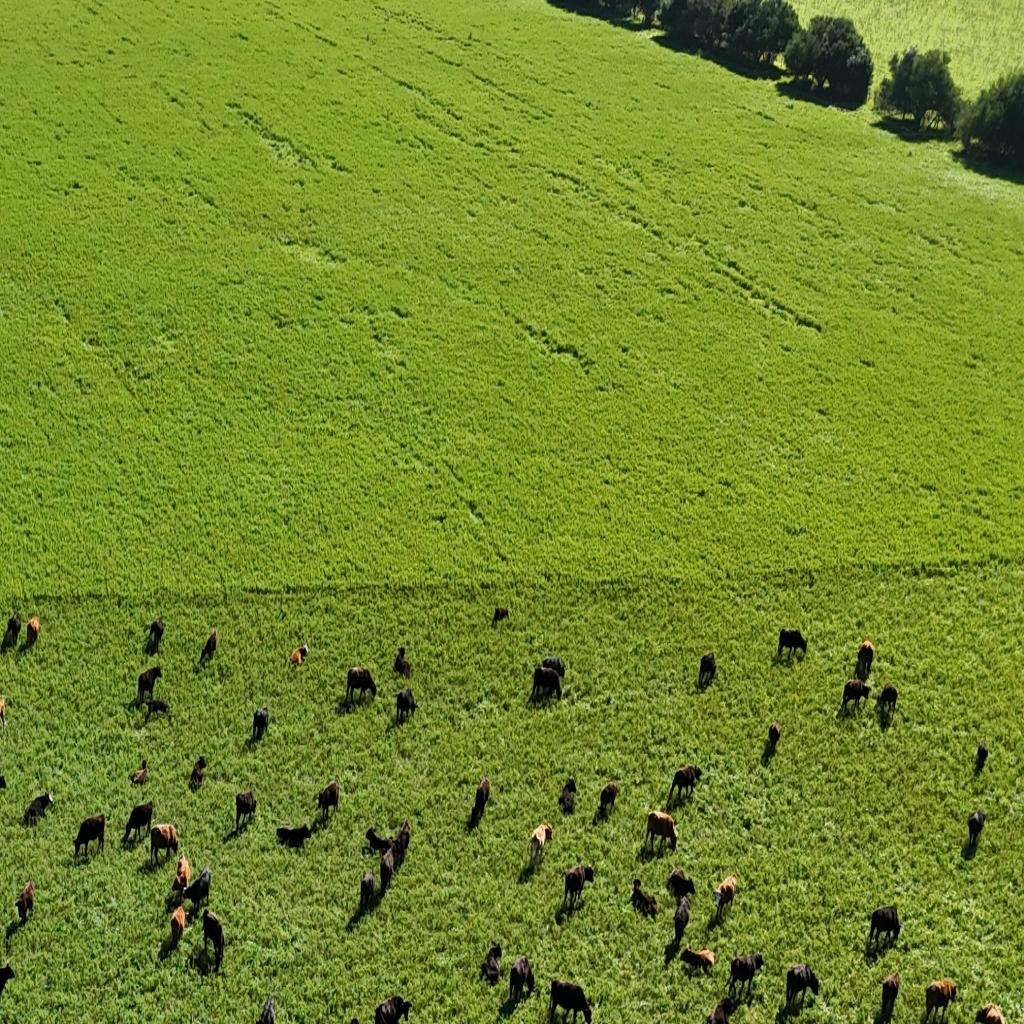cow: (690, 952, 764, 1024), (548, 977, 593, 1024), (785, 962, 820, 1015), (868, 902, 903, 952), (561, 860, 593, 911), (924, 979, 958, 1023), (74, 812, 106, 857), (202, 908, 224, 973), (182, 865, 211, 914), (646, 808, 677, 853), (509, 954, 535, 1007), (668, 764, 702, 804), (124, 799, 154, 844), (530, 665, 562, 705), (346, 665, 377, 705), (150, 823, 178, 867), (681, 942, 715, 978), (375, 994, 413, 1024), (24, 790, 54, 827), (878, 970, 900, 1020), (317, 777, 341, 822), (842, 677, 870, 715), (777, 627, 807, 662), (667, 867, 696, 903), (275, 822, 311, 851), (471, 776, 491, 828), (481, 942, 503, 988), (714, 875, 737, 919), (168, 904, 188, 954), (632, 882, 658, 920), (235, 788, 257, 832), (529, 823, 553, 863), (137, 666, 162, 704), (15, 879, 35, 925), (366, 826, 394, 858), (673, 893, 691, 942), (392, 818, 411, 864), (395, 687, 417, 725), (877, 683, 898, 721), (967, 808, 986, 850), (173, 854, 191, 898), (599, 781, 619, 819), (856, 639, 875, 678), (380, 847, 394, 899), (541, 655, 565, 685), (974, 1002, 1006, 1024), (698, 651, 717, 688), (558, 778, 577, 814), (394, 647, 414, 681), (360, 868, 375, 913), (0, 963, 15, 1007), (200, 628, 218, 664), (145, 698, 171, 722), (252, 707, 270, 741), (4, 613, 21, 649), (190, 754, 208, 788), (257, 994, 276, 1024), (148, 617, 164, 652), (131, 760, 149, 788), (27, 615, 41, 647), (290, 642, 308, 666), (204, 910, 222, 934), (768, 721, 781, 754), (975, 743, 989, 771), (630, 878, 643, 908), (921, 1002, 937, 1024), (493, 605, 509, 625), (317, 788, 327, 820), (488, 940, 502, 962), (130, 692, 144, 711), (0, 696, 7, 732), (168, 822, 178, 847), (583, 865, 595, 883), (692, 766, 702, 780), (209, 627, 217, 644)
